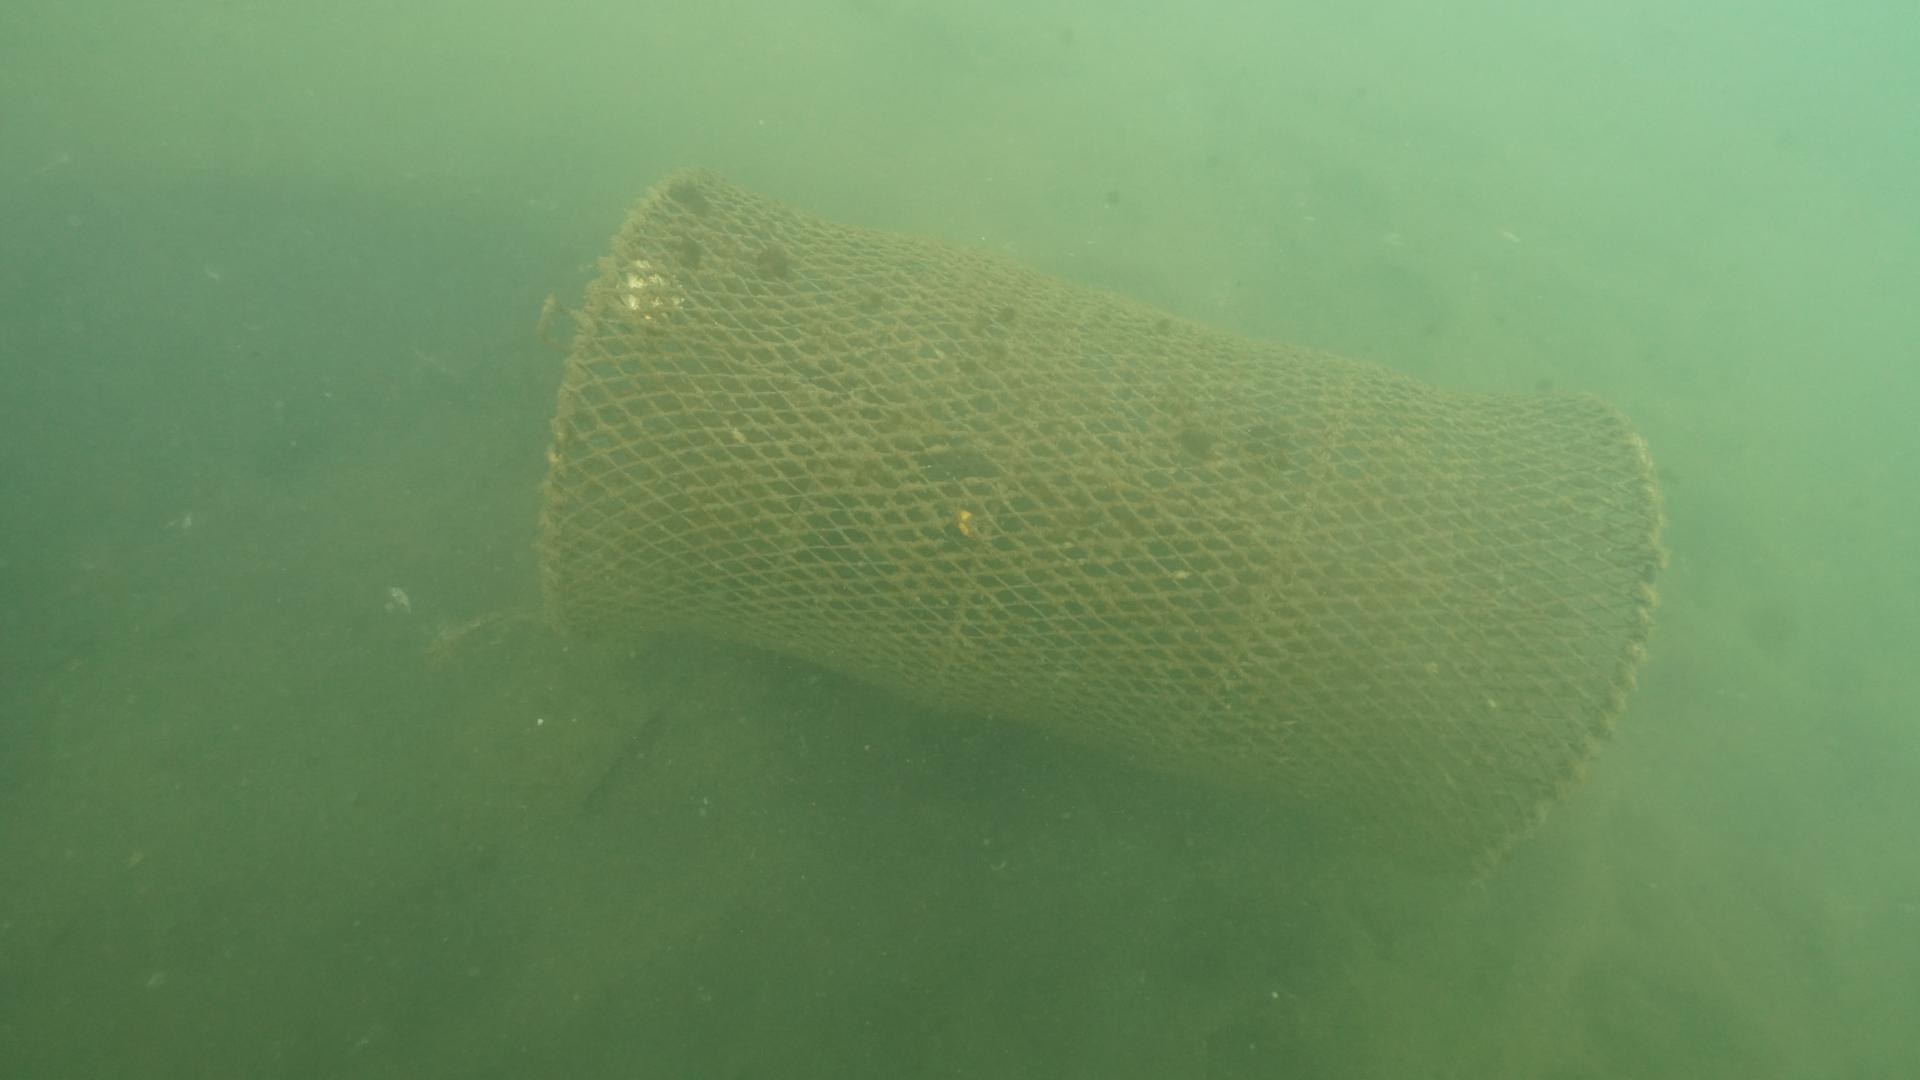spring fish trap: (526, 164, 1671, 898)
